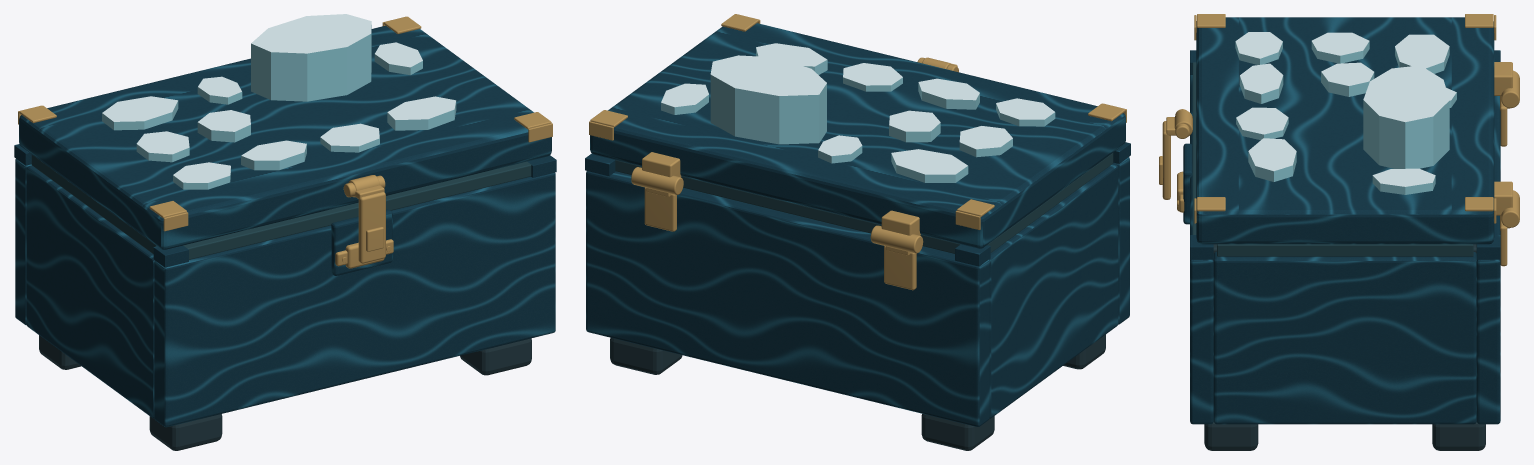
Rendered from southern-ocean.glb.
The picture shows the model from 3 angles, left to right: view 1: azimuth 30°, elevation 25°; view 2: azimuth 150°, elevation 25°; view 3: azimuth 270°, elevation 25°; orthographic projection. The views are drawn at different scales.
Parts seen in each view (by area): view 1: Ocean shell / front rear, Lid / polished slab, Ocean shell / side, Tabular iceberg, Mineral seam / long, Pack floe / 6, Ocean shell / front rear.001, Pack floe / 3, Polar foot, Polar foot.002, Pack floe / 1, Ocean shell / clasp seat (+10 smaller); view 2: Ocean shell / front rear.001, Lid / polished slab, Ocean shell / side, Tabular iceberg, Mineral seam / long.001, Pack floe / 6, Ocean shell / front rear, Polar foot.001, Polar foot.003, Pack floe / 1, Pack floe / 5, Mineral seam / side (+15 smaller); view 3: Lid / polished slab, Ocean shell / side.001, Tabular iceberg, Ocean shell / front rear.001, Ocean shell / front rear, Mineral seam / side.001, Pack floe / 3, Pack floe / 6, Pack floe / 4, Polar foot.002, Pack floe / 5, Polar foot.003 (+17 smaller).
Boxes of the visible parts, x1,y1,x2,y2 form: Ocean shell / front rear: (154,172,555,427); Lid / polished slab: (19,25,551,249); Ocean shell / side: (26,165,154,418); Tabular iceberg: (251,14,371,101); Mineral seam / long: (183,161,531,259); Pack floe / 6: (102,96,178,130); Ocean shell / front rear.001: (15,159,31,325); Pack floe / 3: (387,96,456,130); Polar foot: (149,414,222,450); Polar foot.002: (460,338,531,375); Pack floe / 1: (241,140,306,170); Ocean shell / clasp seat: (331,209,392,275); Ocean shell / front rear.001: (586,171,989,426); Lid / polished slab: (590,23,1125,248); Ocean shell / side: (989,164,1118,418); Tabular iceberg: (710,55,826,144); Mineral seam / long.001: (615,160,960,253); Pack floe / 6: (891,149,968,182); Ocean shell / front rear: (1113,157,1129,324); Polar foot.001: (921,414,994,450); Polar foot.003: (610,338,682,374); Pack floe / 1: (918,78,979,109); Pack floe / 5: (889,110,940,142); Mineral seam / side: (987,153,1113,252); Lid / polished slab: (1196,17,1494,244); Ocean shell / side.001: (1213,252,1476,424); Tabular iceberg: (1363,65,1449,168); Ocean shell / front rear.001: (1476,96,1500,424); Ocean shell / front rear: (1190,75,1213,424); Mineral seam / side.001: (1217,244,1473,256); Pack floe / 3: (1248,138,1296,181); Pack floe / 6: (1395,34,1449,73); Pack floe / 4: (1311,32,1369,63); Polar foot.002: (1204,422,1258,450); Pack floe / 5: (1321,62,1374,96); Polar foot.003: (1432,422,1485,450).
Bounding box in the file's own units: 3.72 × 2.63 × 2.88.
Materials: 6 (1 with a texture image).
